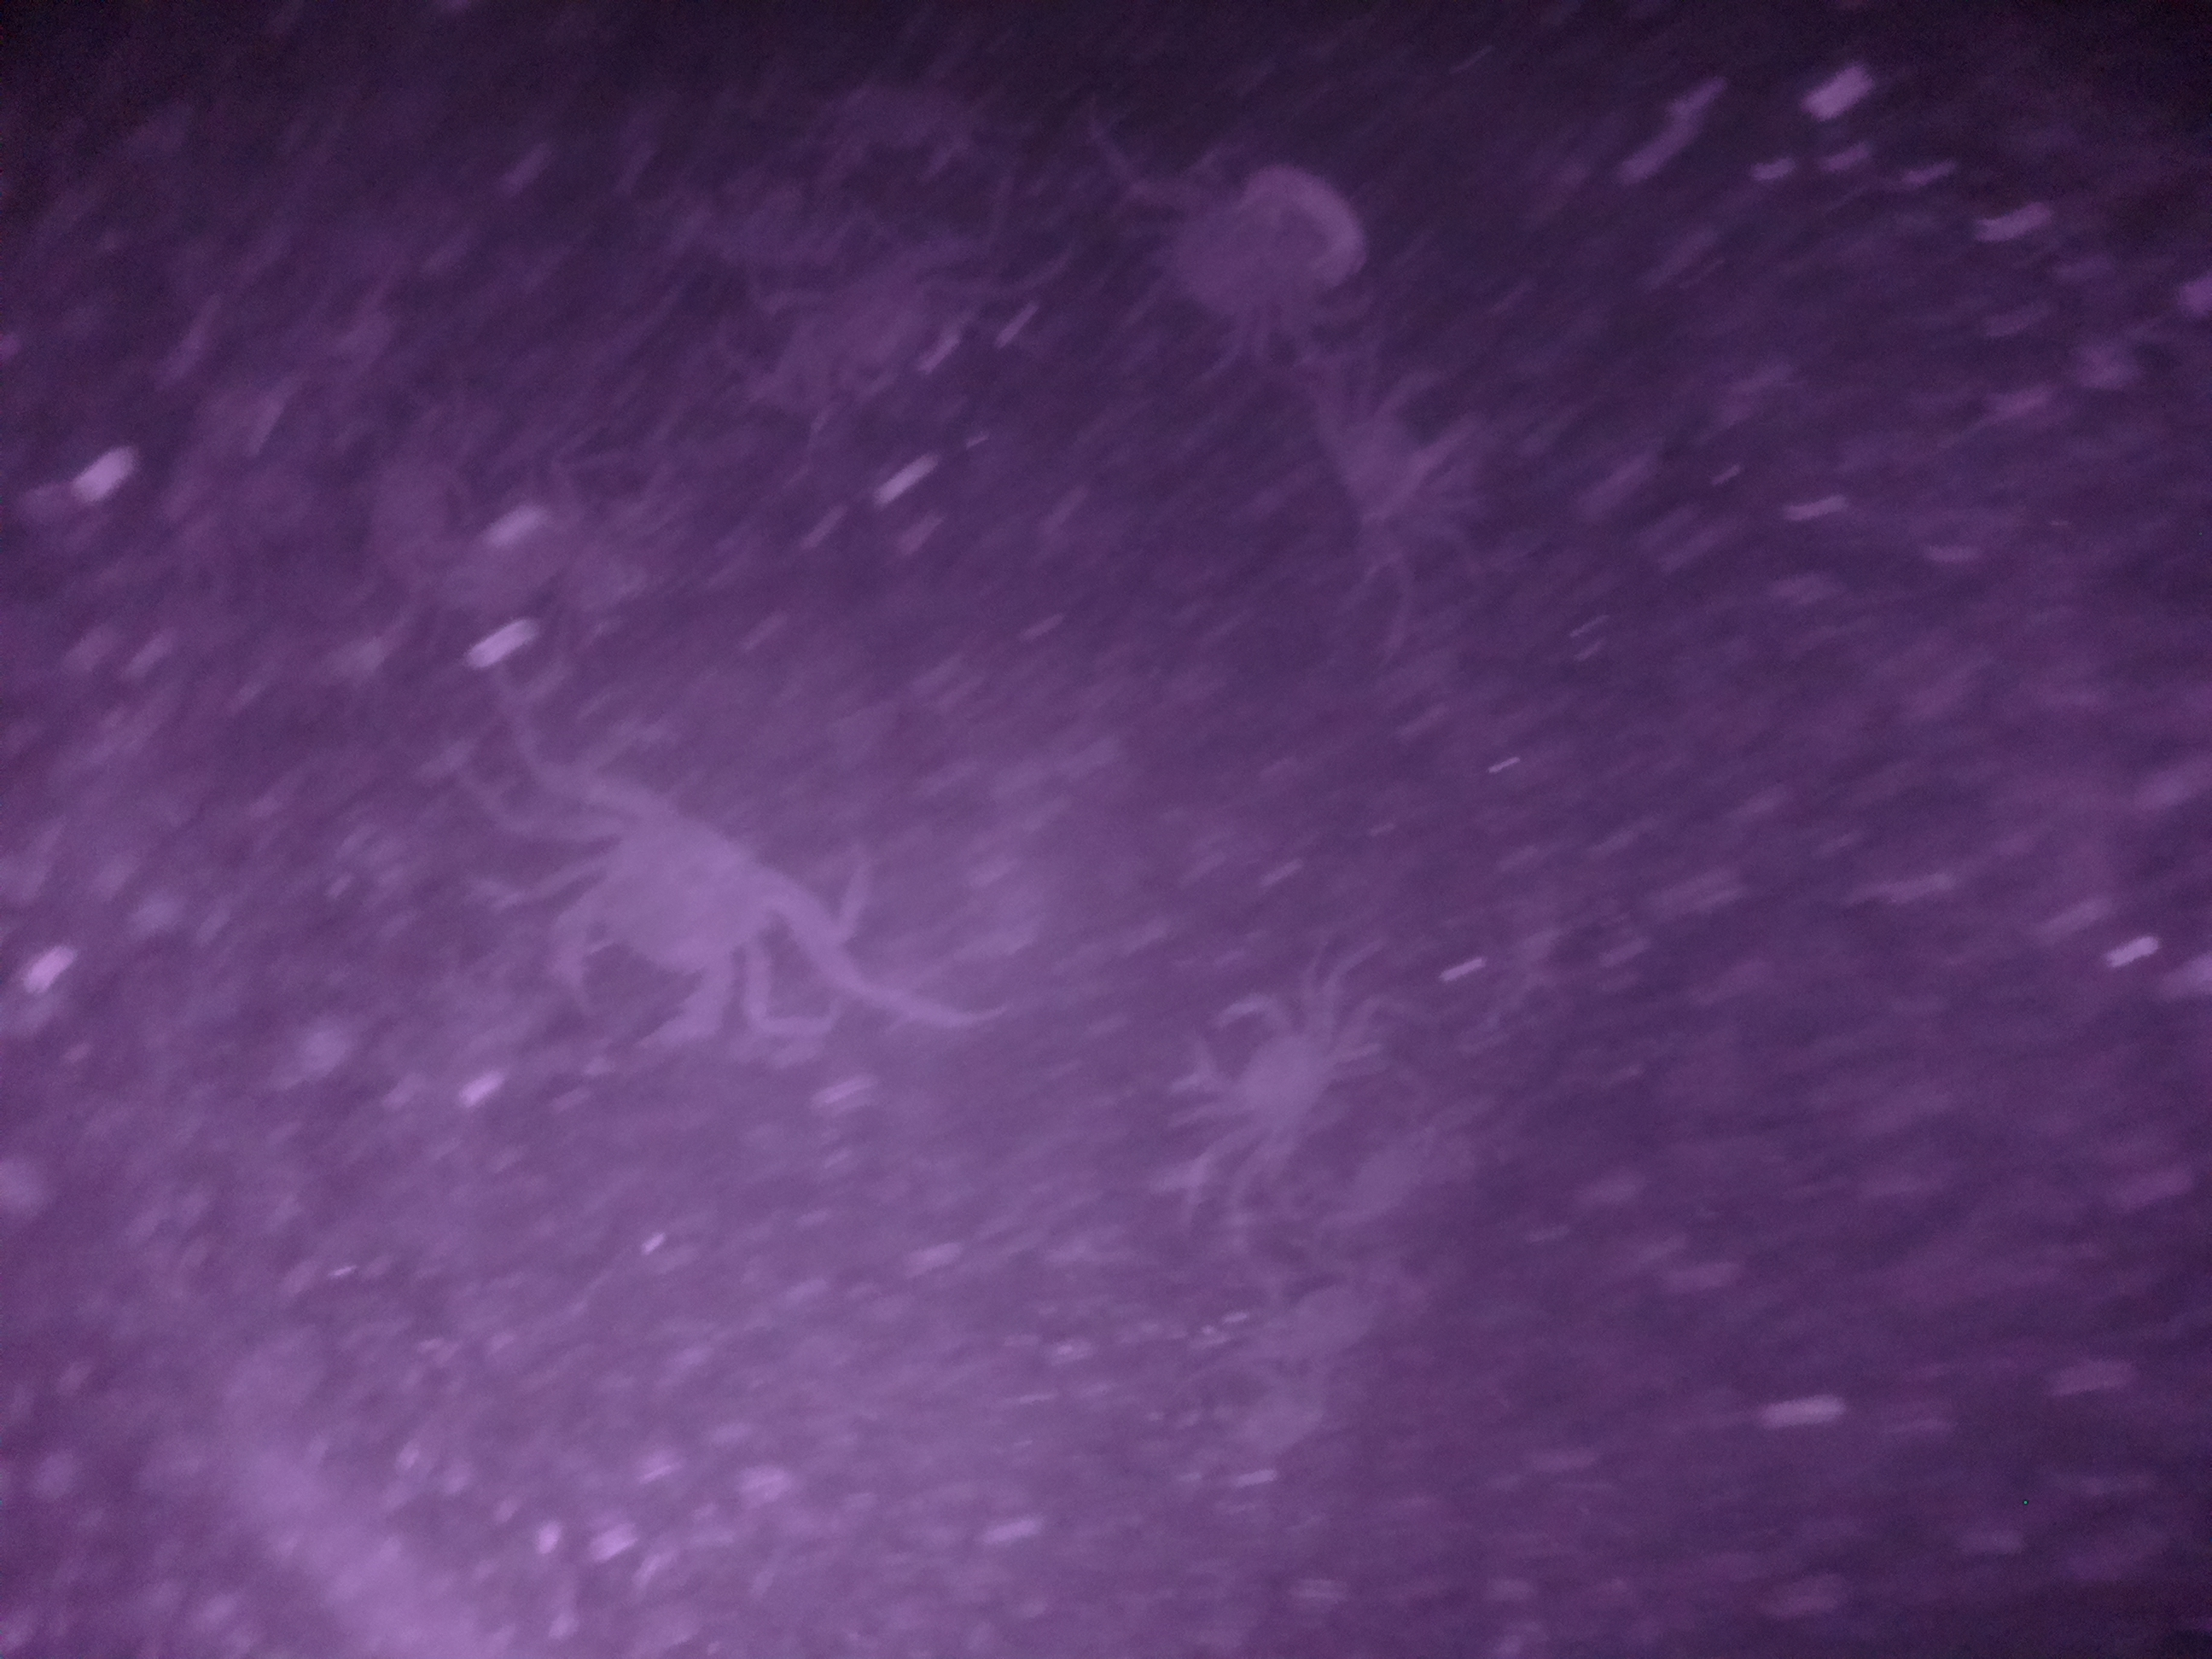Crab: (1167, 972, 1360, 1175)
